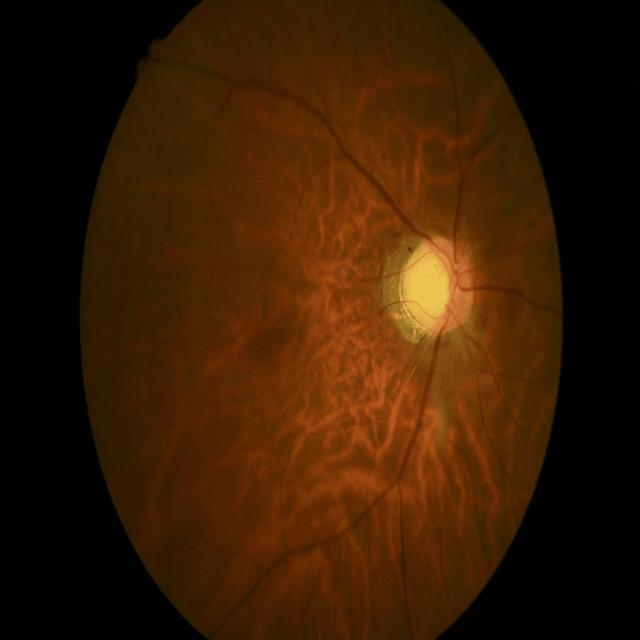cup: (416, 252, 458, 328)
disk: (398, 233, 474, 334)
